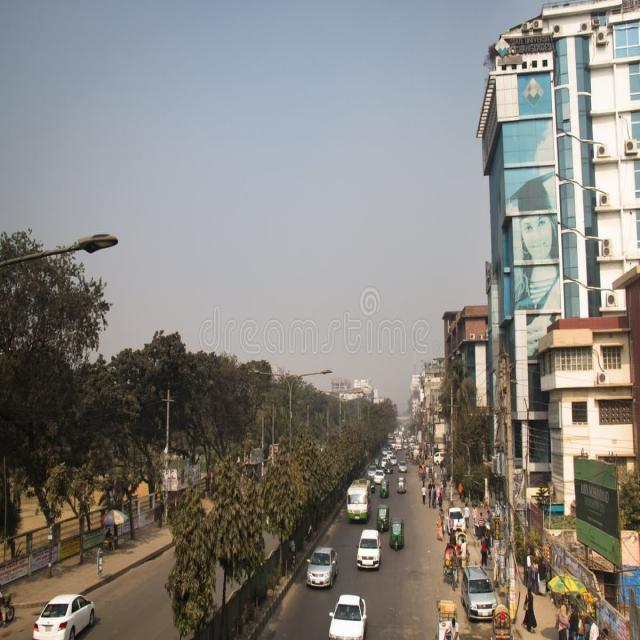Bus: (347, 475, 375, 526)
CNG: (389, 518, 408, 558), (375, 504, 392, 533), (398, 473, 408, 499), (379, 482, 392, 500)
Car: (33, 593, 106, 640), (461, 562, 501, 627), (328, 595, 375, 640), (306, 546, 342, 591), (354, 530, 383, 572)
